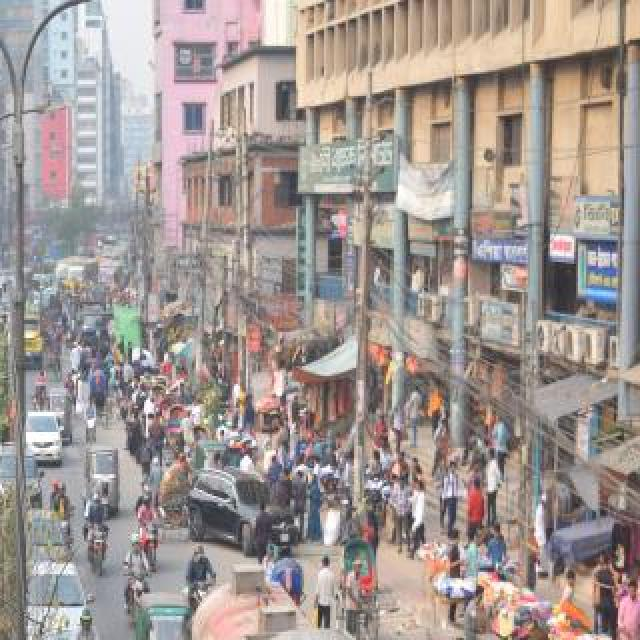bus: (0, 266, 36, 306), (66, 256, 100, 292), (51, 255, 77, 289)
car: (185, 467, 299, 555), (8, 552, 94, 640), (9, 500, 67, 570), (22, 410, 66, 464)
motorbike: (124, 537, 152, 629), (84, 487, 112, 577), (184, 542, 218, 614), (136, 485, 162, 575), (50, 478, 74, 552), (70, 606, 108, 640), (29, 382, 49, 412)
truck: (180, 560, 388, 640), (4, 297, 46, 369)
van: (72, 298, 112, 354)
